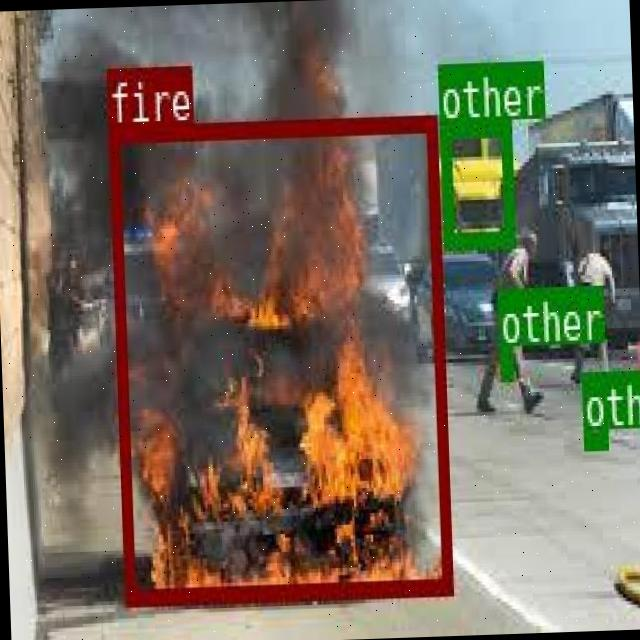fire: (106, 113, 451, 604)
